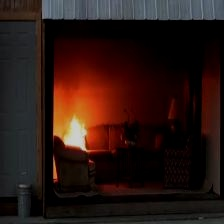fire: (53, 100, 98, 161)
